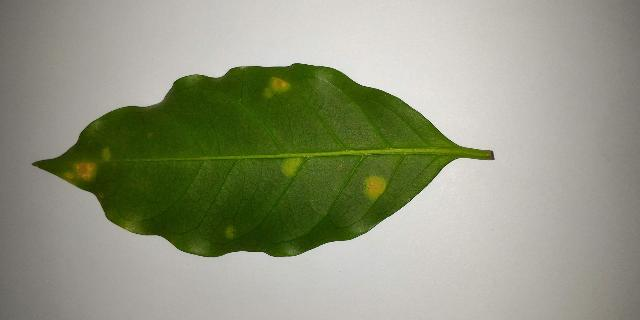miner: (59, 158, 99, 186), (265, 77, 291, 96), (366, 176, 387, 199), (282, 158, 301, 175), (102, 148, 111, 161), (227, 228, 233, 237)
